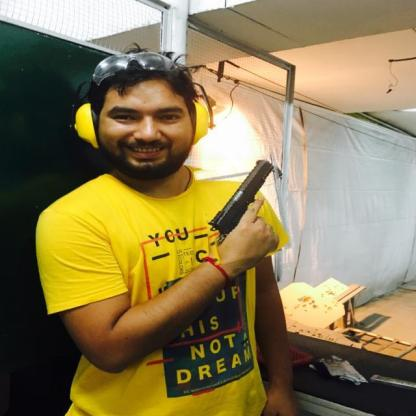handgun: (198, 157, 290, 261)
